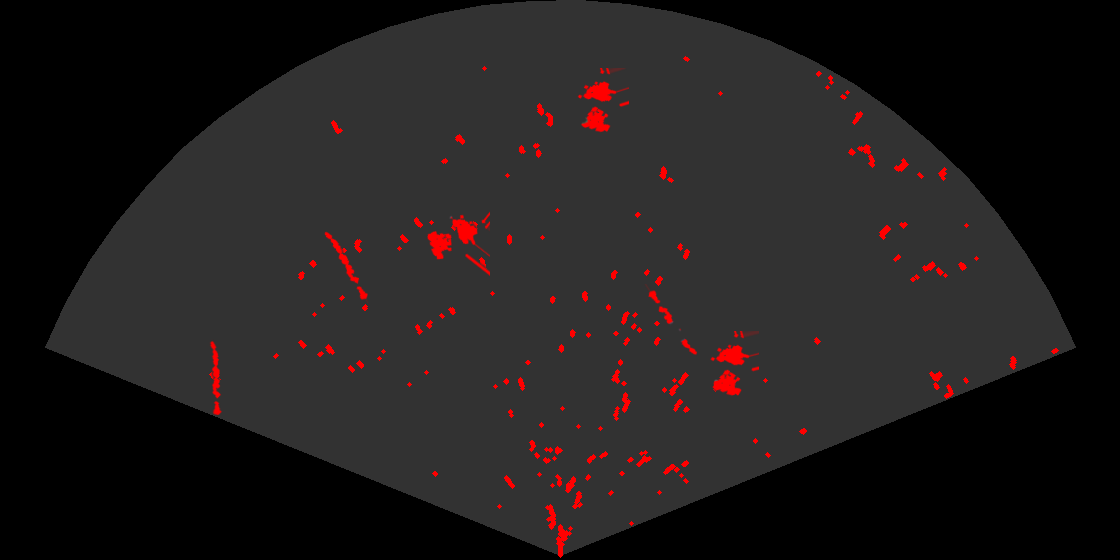cage: (426, 210, 490, 276), (576, 68, 629, 134), (709, 331, 759, 397)
chain: (643, 284, 699, 357), (323, 230, 370, 303), (208, 339, 224, 415)
